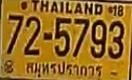2: (24, 16, 40, 54)
3: (107, 20, 123, 58)
5: (54, 17, 70, 56)
7: (7, 14, 23, 54), (73, 18, 88, 56)
9: (90, 19, 106, 57)
SPK: (22, 58, 104, 80)
